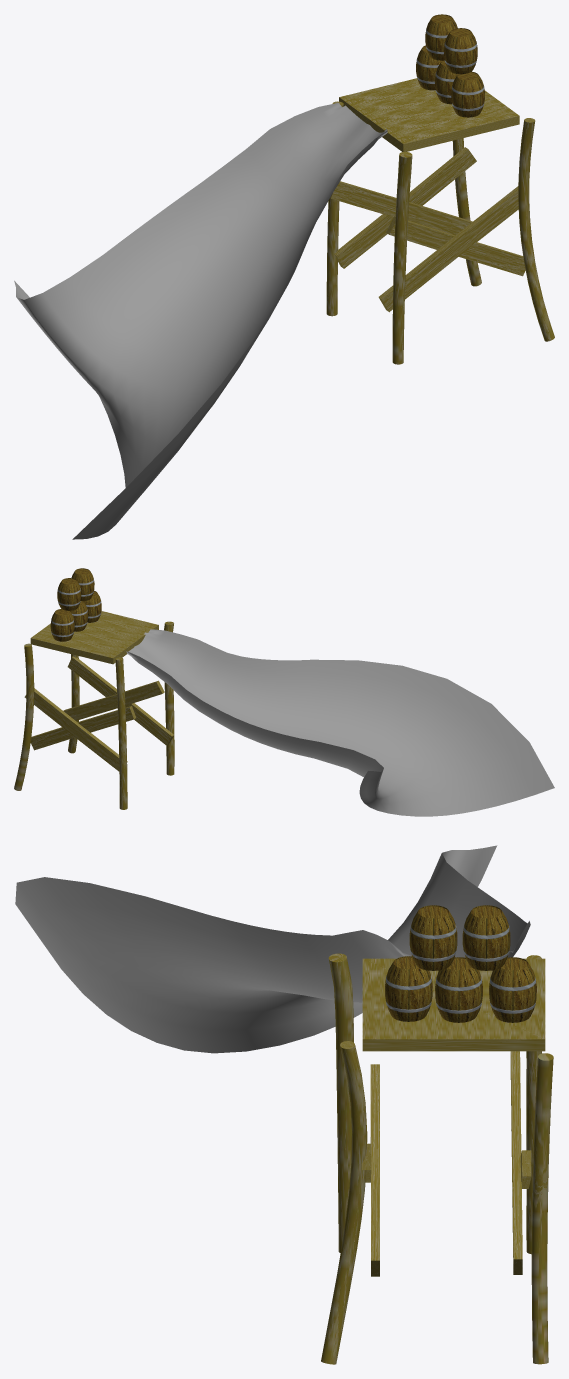
Rendered from tower4.FBX.
3 renders of one model, top to bottom at view 1: azimuth 30°, elevation 25°; view 2: azimuth 150°, elevation 25°; view 3: azimuth 270°, elevation 25°, orthographic. The views are drawn at different scales.
Visible parts, largest first — view 1: Loft001, Box001, Cylinder059, Cylinder056, Cylinder058, Cylinder057, Cylinder001; view 2: Loft001, Box001, Cylinder058, Cylinder057, Cylinder059, Cylinder056, Cylinder001; view 3: Loft001, Box001, Cylinder058, Cylinder059, Cylinder057, Cylinder056, Cylinder001.
Boxes of the visible parts, left/top/right/bottom form: Loft001: left=14, top=103, right=387, bottom=539; Box001: left=326, top=78, right=554, bottom=364; Cylinder059: left=444, top=28, right=477, bottom=74; Cylinder056: left=451, top=71, right=484, bottom=117; Cylinder058: left=425, top=14, right=457, bottom=60; Cylinder057: left=416, top=45, right=441, bottom=90; Cylinder001: left=435, top=60, right=457, bottom=104; Loft001: left=126, top=629, right=554, bottom=816; Box001: left=14, top=611, right=174, bottom=809; Cylinder058: left=57, top=578, right=81, bottom=610; Cylinder057: left=50, top=609, right=74, bottom=641; Cylinder059: left=71, top=568, right=94, bottom=601; Cylinder056: left=83, top=590, right=101, bottom=622; Cylinder001: left=70, top=601, right=87, bottom=631; Loft001: left=15, top=845, right=530, bottom=1053; Box001: left=321, top=953, right=553, bottom=1364; Cylinder058: left=462, top=905, right=510, bottom=970; Cylinder059: left=409, top=905, right=457, bottom=970; Cylinder057: left=489, top=957, right=536, bottom=1022; Cylinder056: left=385, top=956, right=432, bottom=1021; Cylinder001: left=435, top=957, right=482, bottom=1022.
Bounding box in the file's own units: 3502 × 1747 × 1965.
